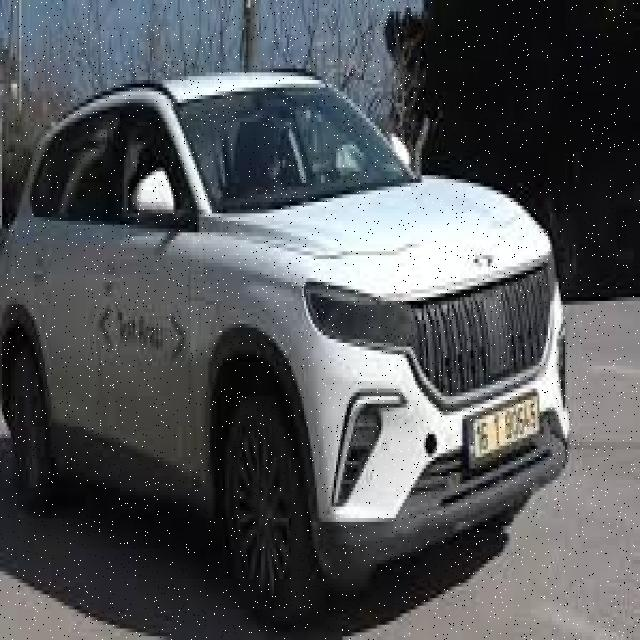togg: (0, 69, 567, 625), (0, 91, 567, 526)
